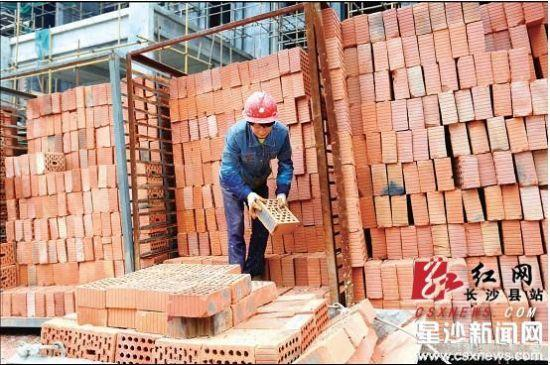helmet: (245, 93, 278, 125)
